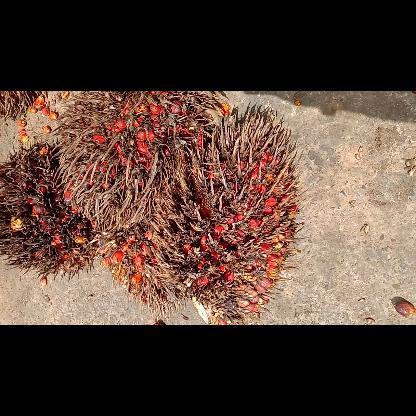Terlalu masak: (151, 104, 306, 324), (50, 91, 236, 239), (0, 136, 104, 282), (91, 212, 195, 322)
